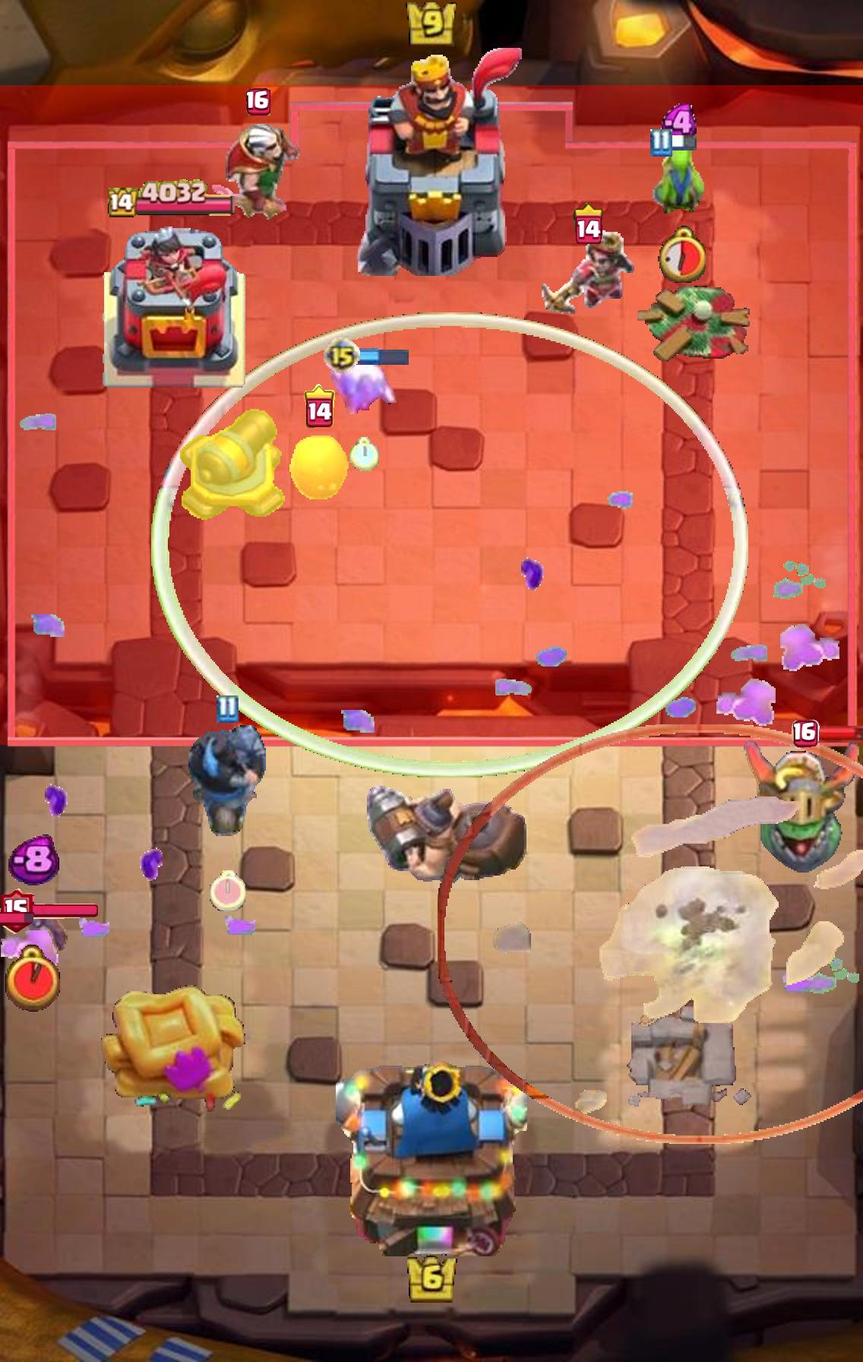bar: (25, 904, 98, 919), (816, 725, 863, 743)
bar-level: (0, 888, 33, 934), (303, 384, 335, 428), (573, 203, 603, 244), (791, 720, 819, 749), (246, 88, 270, 116)
